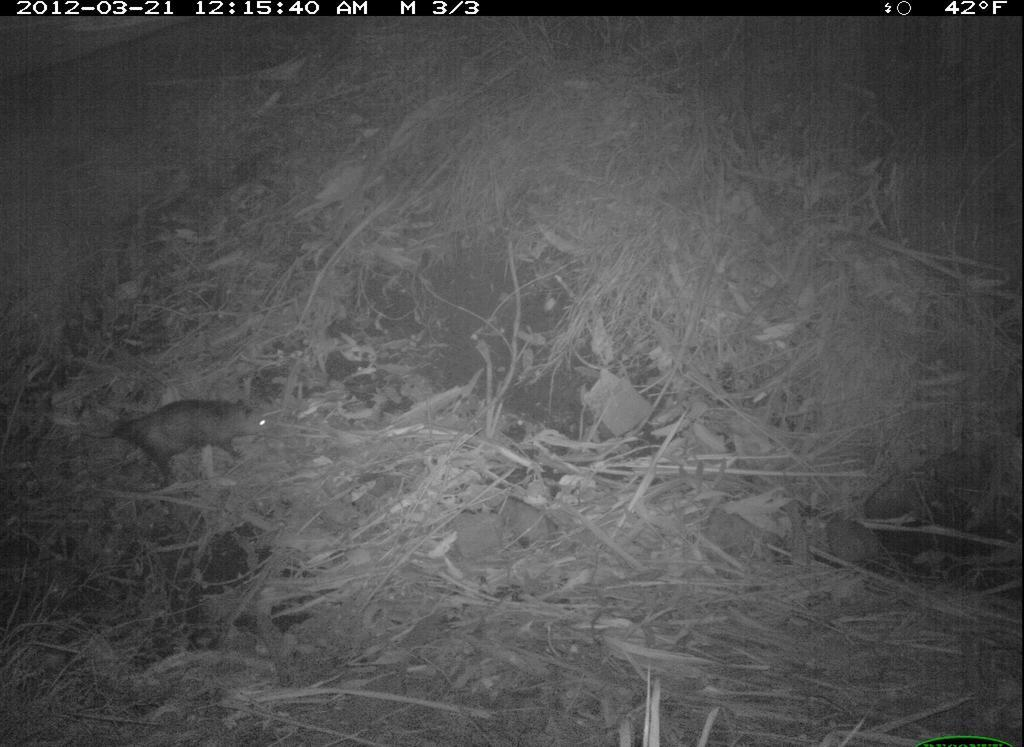opossum: (105, 397, 281, 484)
